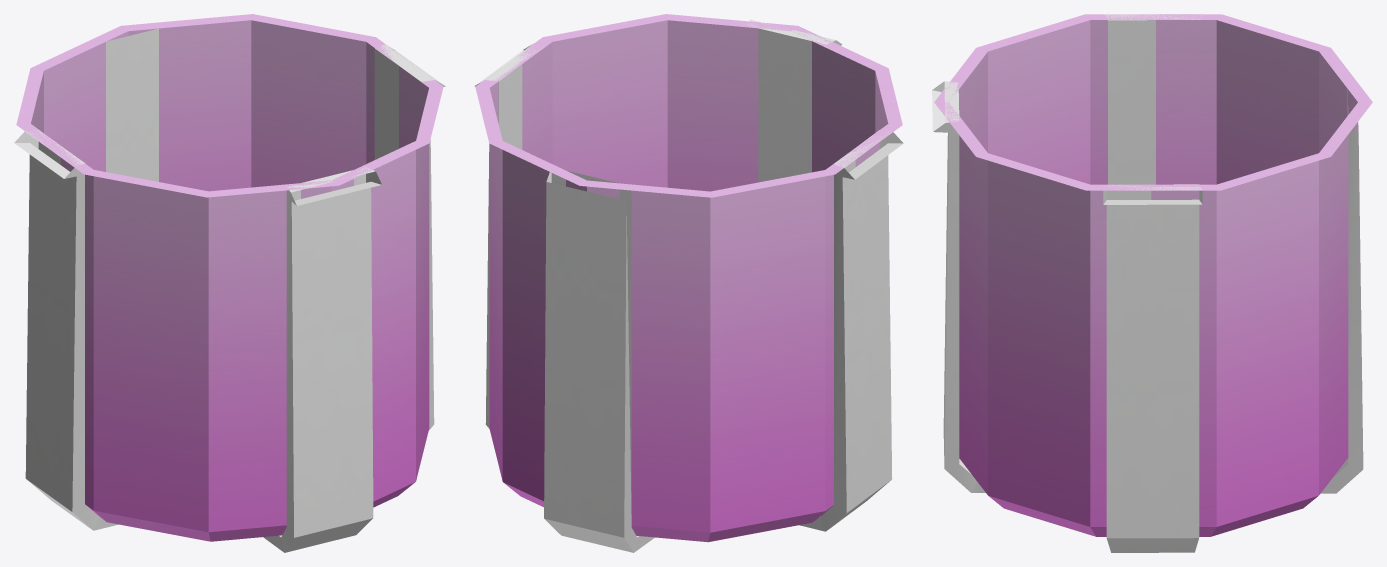
File: GiftBoxBody.obj
3 views of the same model, side by side, from view 1: azimuth 30°, elevation 25°; view 2: azimuth 150°, elevation 25°; view 3: azimuth 270°, elevation 25° (orthographic).
Parts seen in each view (by area): view 1: Christmas_Present_02_Mesh.009; view 2: Christmas_Present_02_Mesh.009; view 3: Christmas_Present_02_Mesh.009.
Boxes of the visible parts, box(x1,y1,x2,y2) form: Christmas_Present_02_Mesh.009: box(14, 14, 445, 552); Christmas_Present_02_Mesh.009: box(474, 14, 903, 552); Christmas_Present_02_Mesh.009: box(932, 14, 1372, 552).
Bounding box in the file's own units: 2.95 × 2.75 × 2.94.
